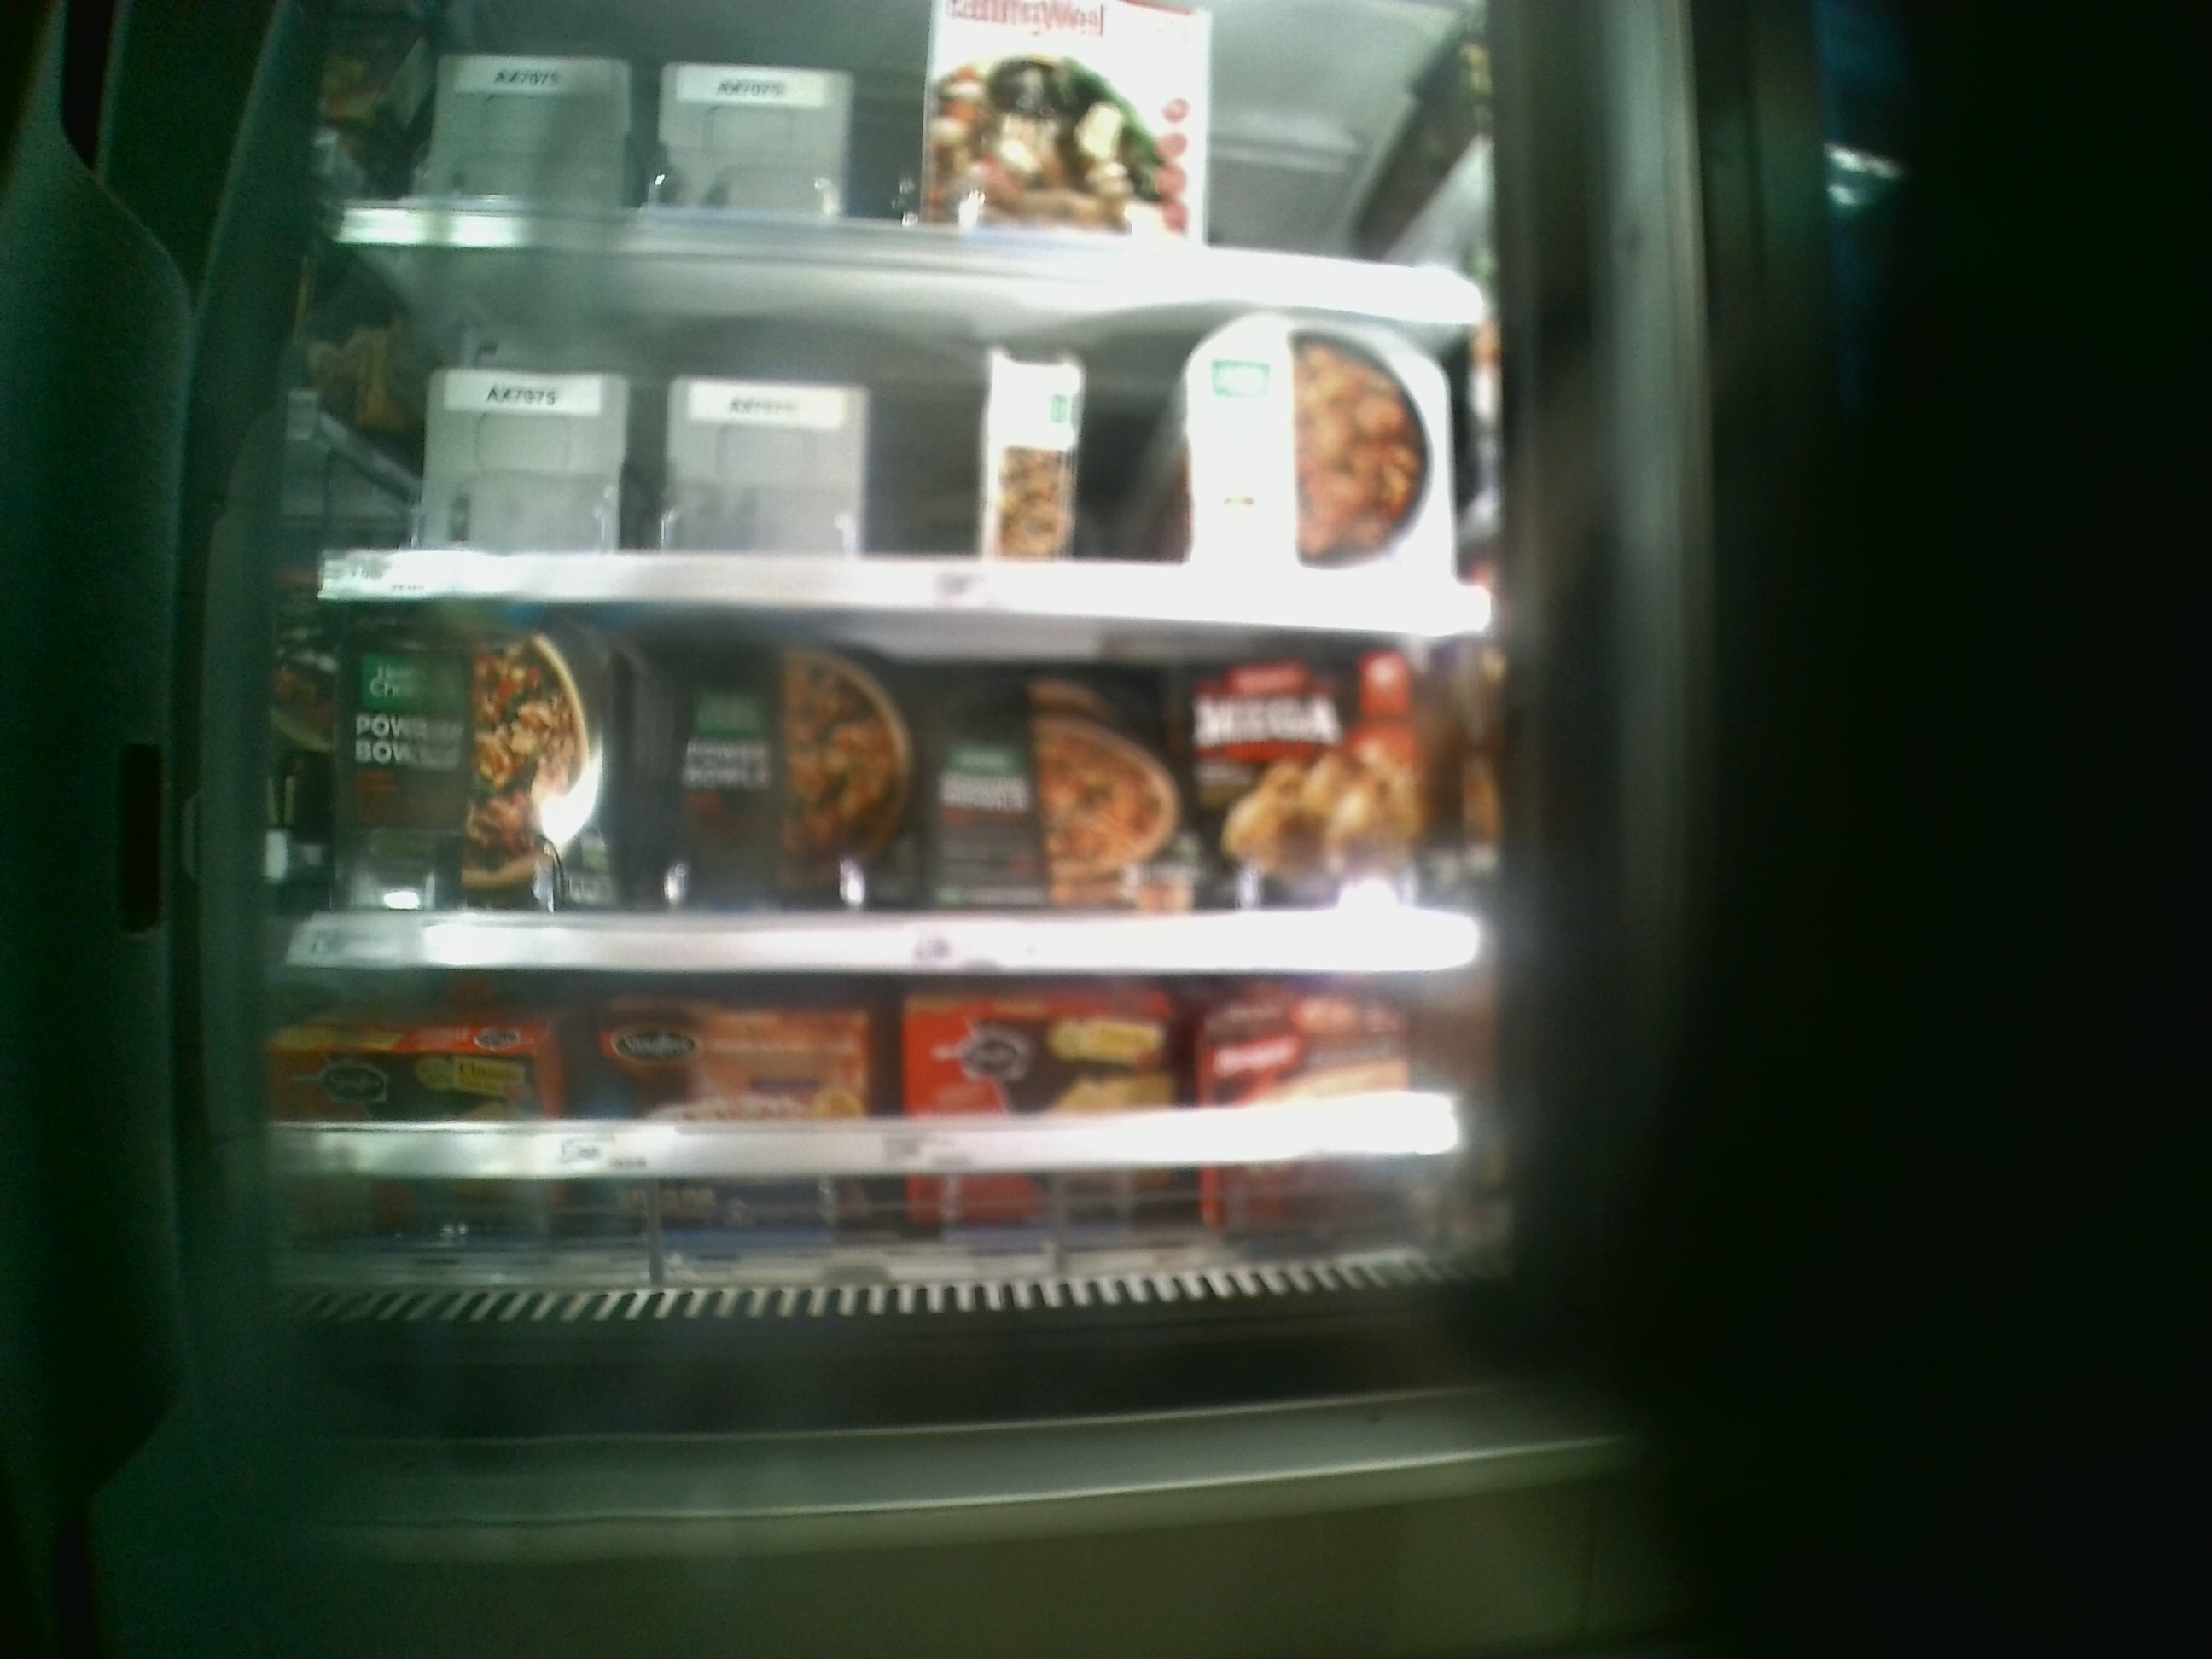shelf: (319, 237, 1496, 622), (258, 969, 1503, 1326), (298, 603, 1493, 967)
